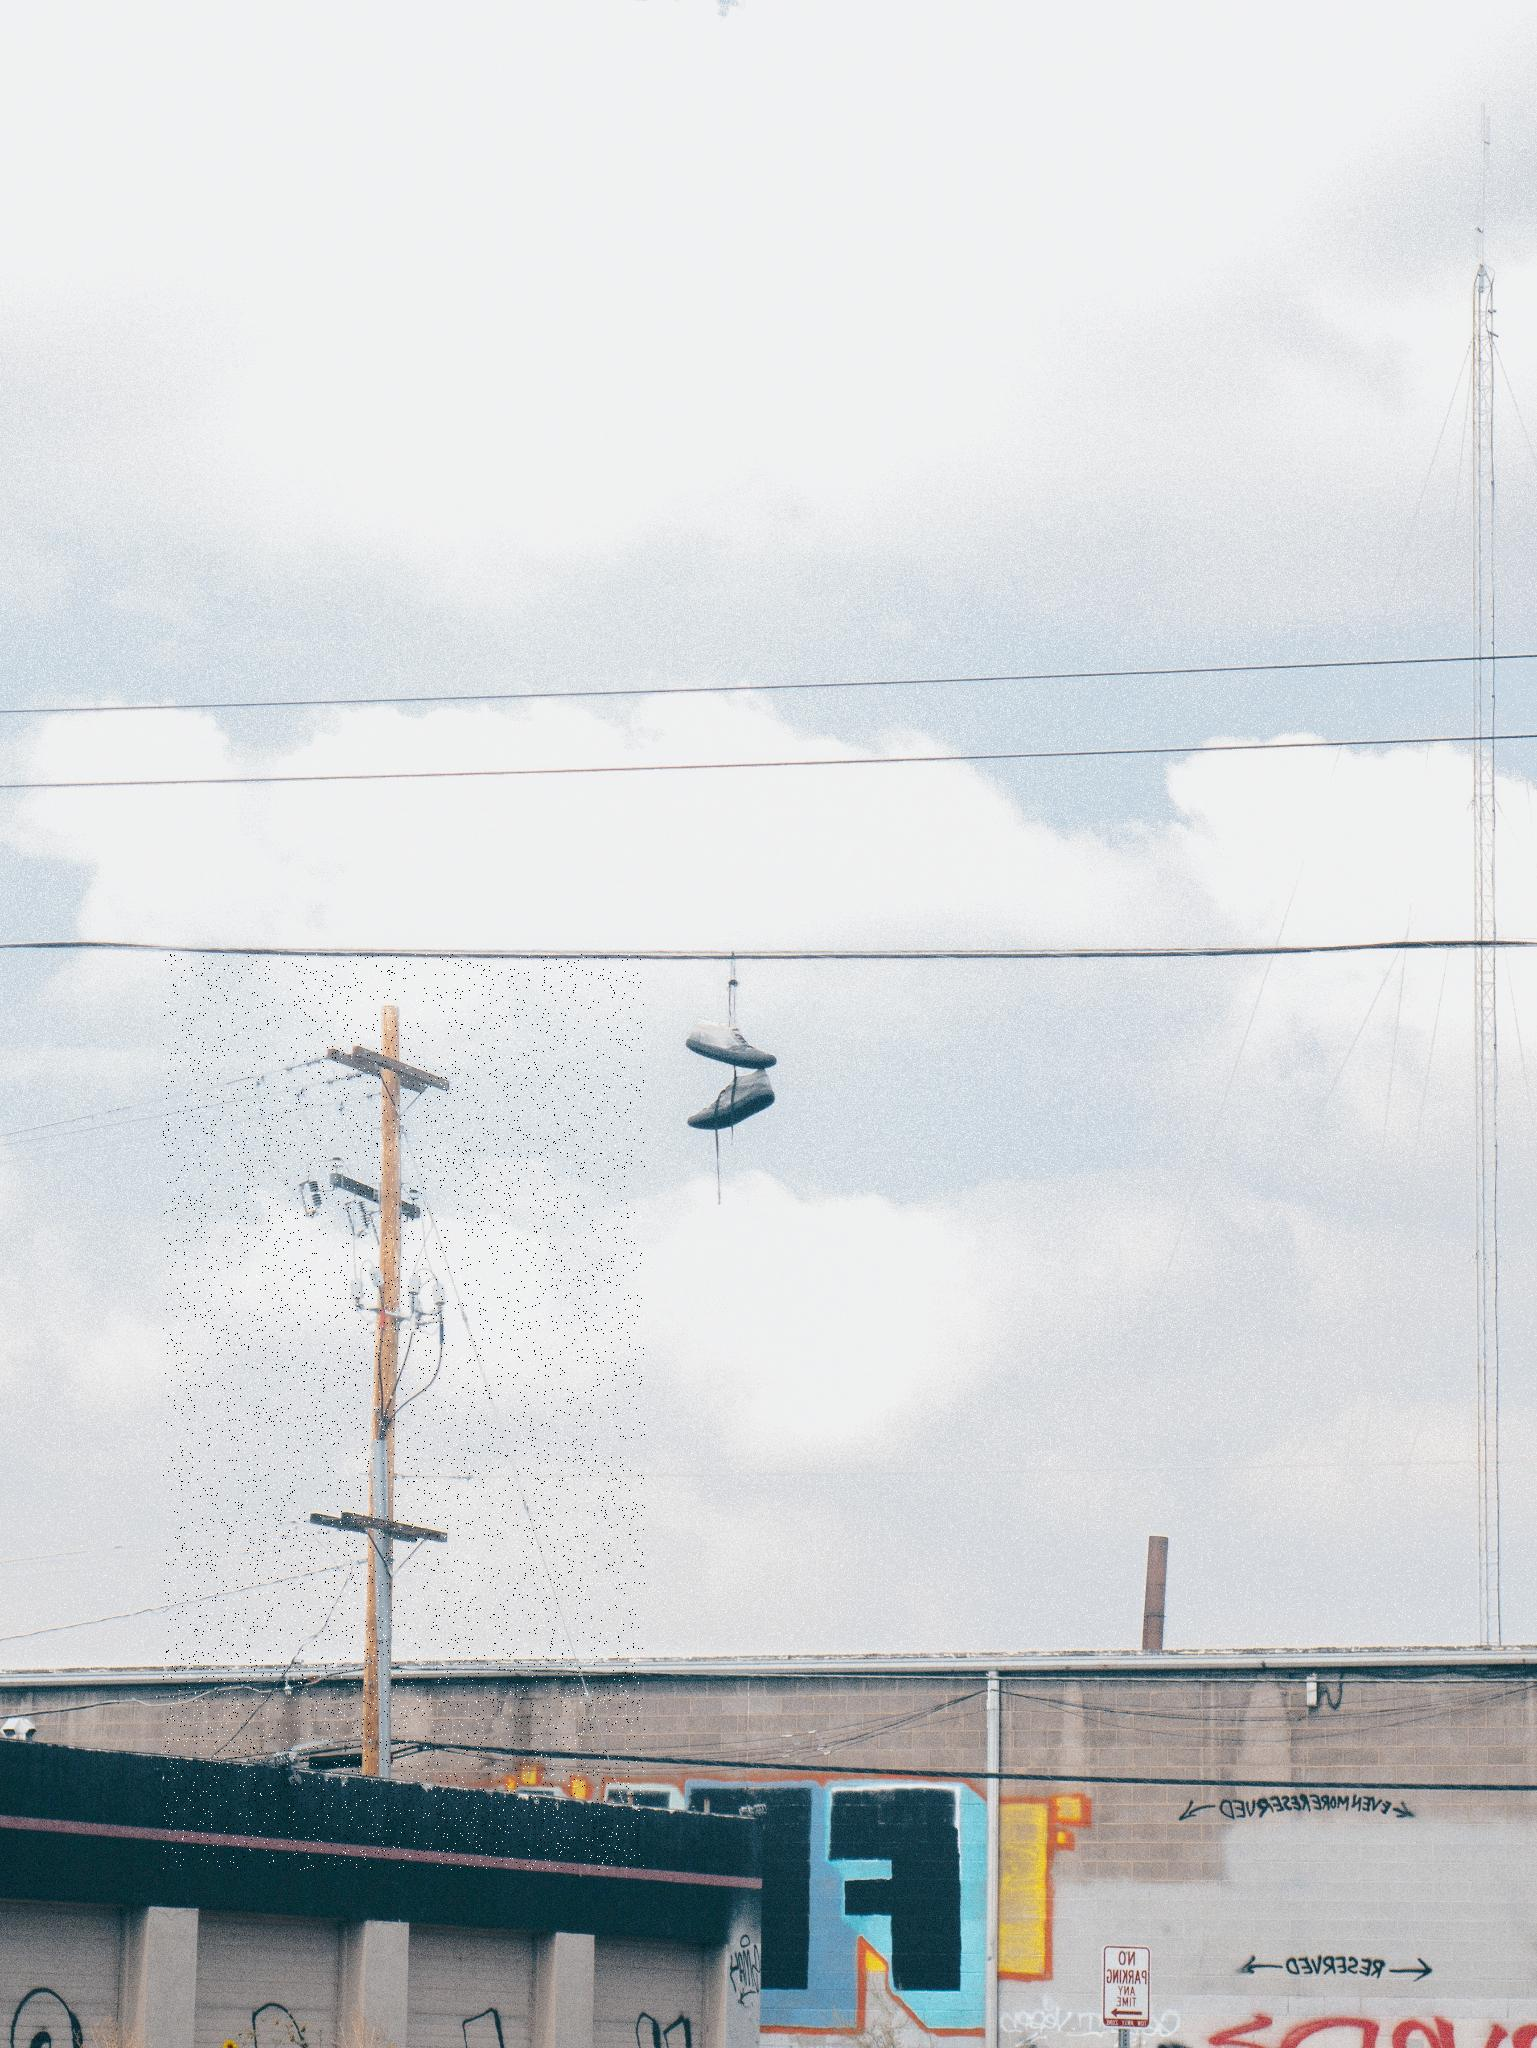cable tower: (163, 954, 646, 1870)
